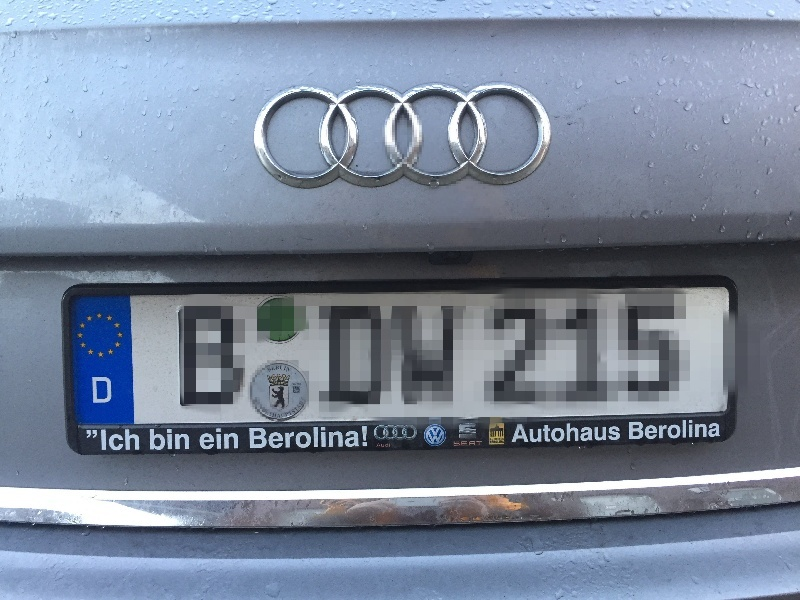text: (97, 377, 112, 404), (257, 426, 272, 450), (273, 426, 288, 450), (289, 426, 304, 450), (305, 426, 320, 450), (321, 426, 336, 450), (337, 426, 352, 450), (353, 426, 368, 450), (289, 397, 305, 419), (209, 428, 224, 451), (705, 419, 721, 440), (257, 397, 272, 419), (273, 397, 288, 419), (97, 430, 112, 452), (113, 430, 128, 452), (161, 429, 176, 451), (225, 428, 239, 451), (641, 419, 656, 440), (657, 419, 672, 440), (673, 419, 688, 440), (689, 419, 704, 440), (177, 429, 191, 451), (529, 423, 544, 443), (545, 423, 560, 443), (561, 423, 576, 443), (577, 423, 592, 443), (593, 423, 608, 443), (129, 430, 140, 452), (149, 429, 160, 451), (609, 423, 621, 443), (629, 419, 640, 440), (86, 430, 96, 452), (518, 423, 528, 443), (200, 428, 208, 451), (465, 424, 476, 439), (250, 426, 256, 450), (275, 315, 288, 325), (92, 377, 96, 404), (273, 366, 288, 372), (289, 323, 304, 329), (465, 441, 480, 446), (459, 424, 464, 439), (278, 331, 288, 337), (290, 318, 304, 322), (277, 304, 288, 309), (454, 441, 464, 446), (264, 324, 272, 330), (254, 397, 256, 419), (266, 310, 272, 317), (292, 383, 304, 386), (263, 319, 272, 323), (267, 366, 272, 372), (497, 440, 504, 444), (289, 311, 294, 316), (490, 440, 496, 444), (378, 444, 384, 448), (284, 305, 288, 311), (385, 444, 390, 448), (497, 438, 504, 440), (286, 328, 288, 335), (490, 438, 496, 440), (289, 366, 291, 372), (273, 305, 274, 311), (271, 329, 272, 335), (273, 329, 274, 335), (481, 441, 482, 446)
